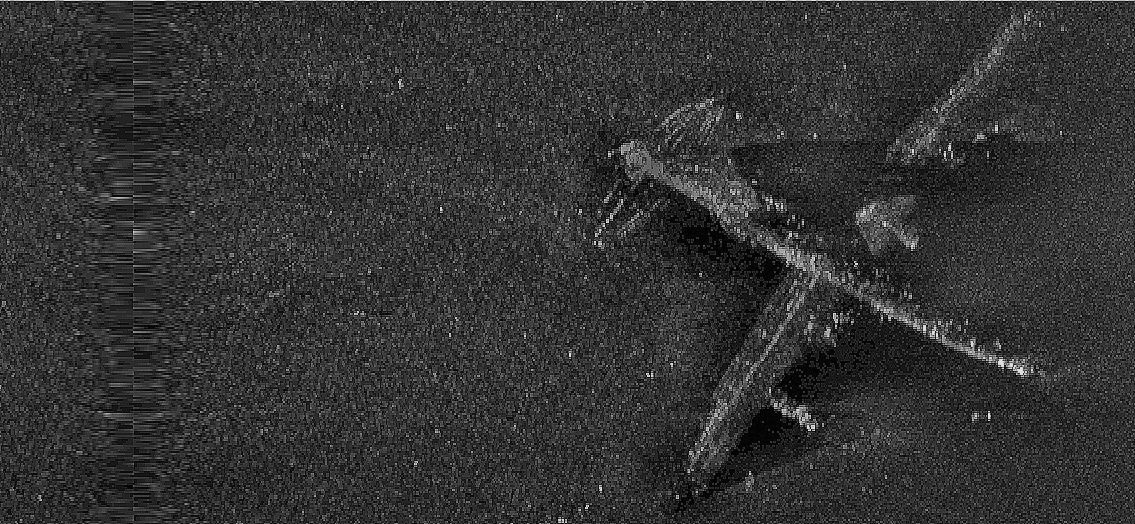plane: (595, 18, 1052, 495)
